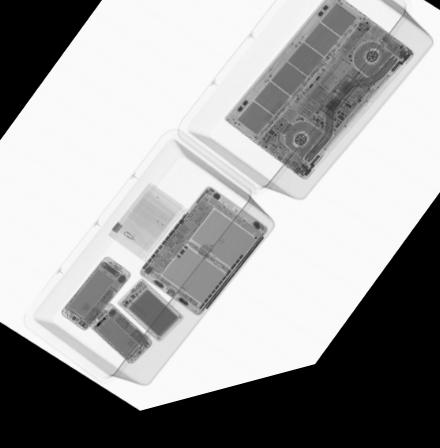Powerbank: (116, 284, 185, 350)
